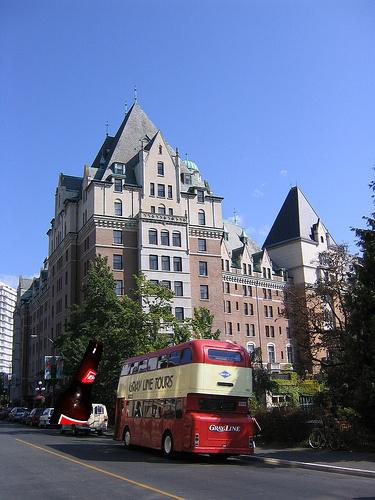tampered: (50, 341, 103, 424)
